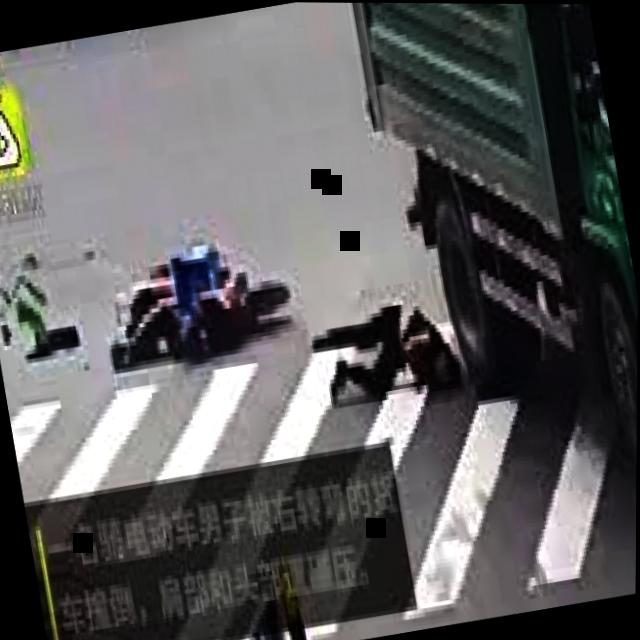Fall-Detected: (298, 266, 467, 415)
